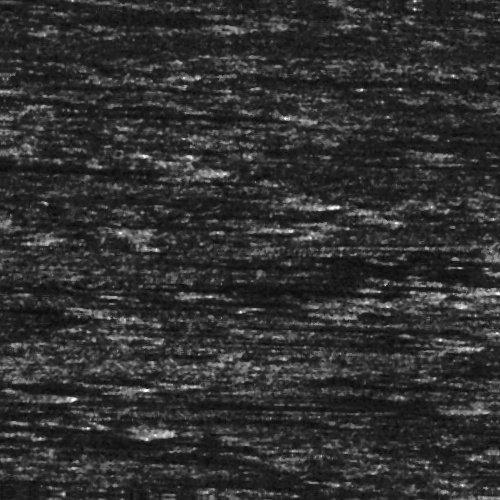object: (106, 158, 273, 185), (262, 188, 355, 215), (208, 108, 333, 119), (104, 429, 209, 442), (207, 219, 312, 230), (370, 142, 463, 153), (445, 395, 500, 410), (428, 334, 481, 343), (163, 290, 226, 297), (478, 245, 500, 262), (0, 58, 35, 67), (461, 278, 500, 283), (472, 260, 500, 265), (472, 322, 500, 325)
shadow: (0, 188, 309, 215), (0, 158, 189, 185), (232, 245, 500, 262), (180, 395, 481, 410), (377, 149, 500, 170), (42, 108, 270, 119), (197, 142, 417, 153), (223, 334, 454, 343), (0, 429, 156, 442), (127, 260, 500, 265), (188, 278, 493, 283), (305, 75, 500, 82), (0, 290, 194, 297), (181, 219, 259, 230), (411, 322, 487, 325)
